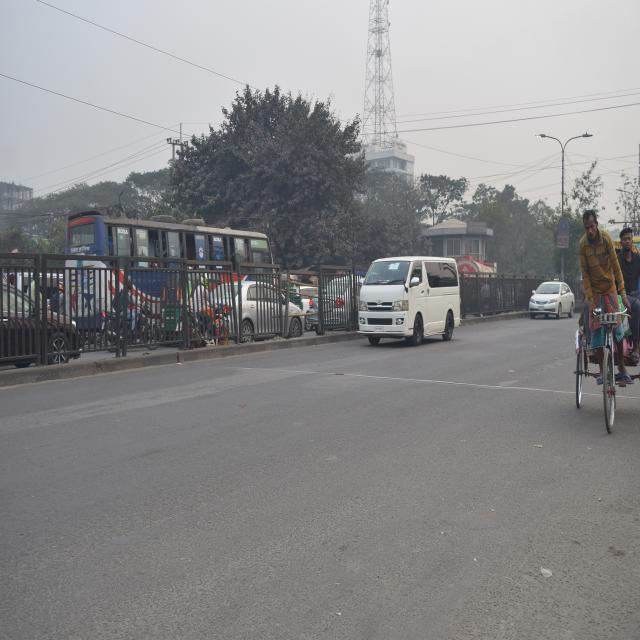bus: (68, 219, 294, 341)
car: (0, 256, 70, 329), (522, 276, 576, 326)
microbus: (360, 244, 469, 371)
motorbike: (100, 278, 158, 364), (177, 274, 234, 351)
